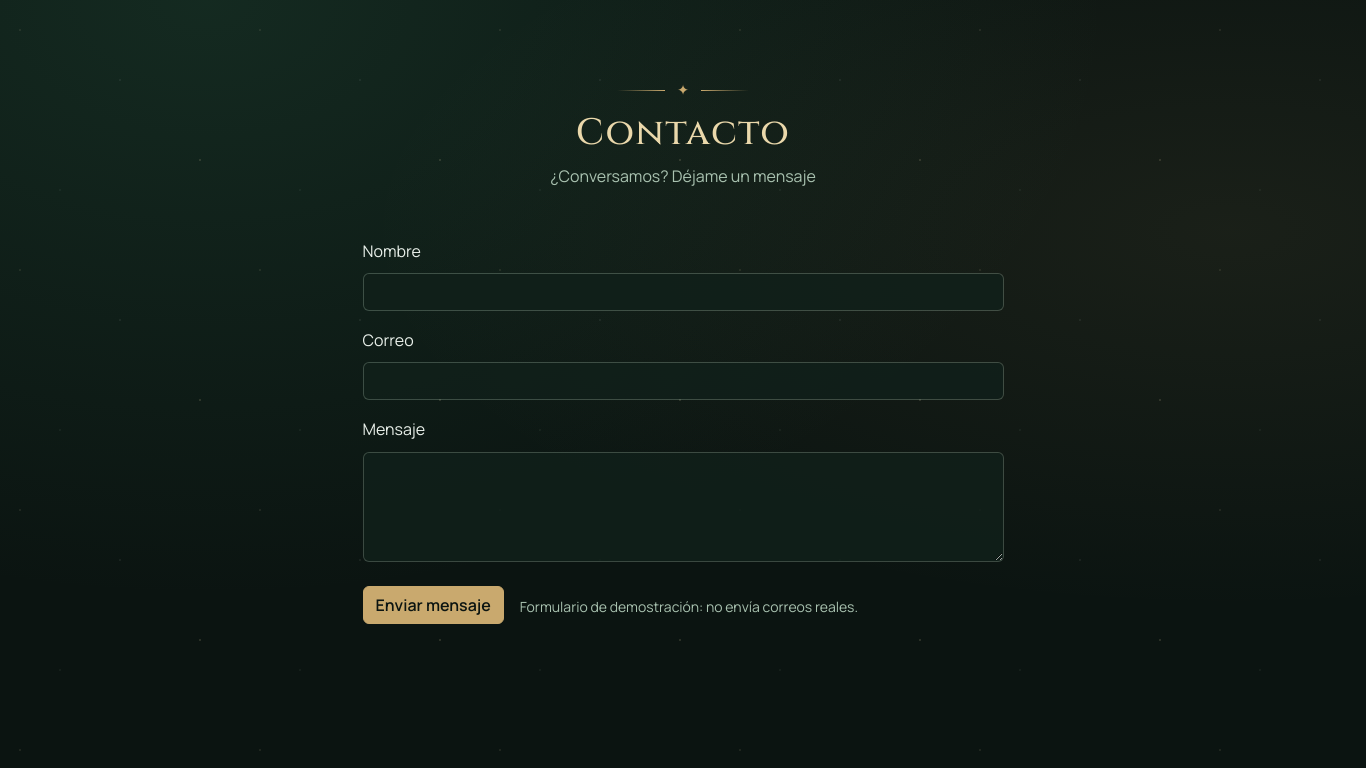
it: FormularioContacto › la confirmación se puede cerrar
The width and height of the screenshot is (1366, 768).
Type "Ana" into the field labelled "Nombre" at (683, 292), box [362,273,1004,311]
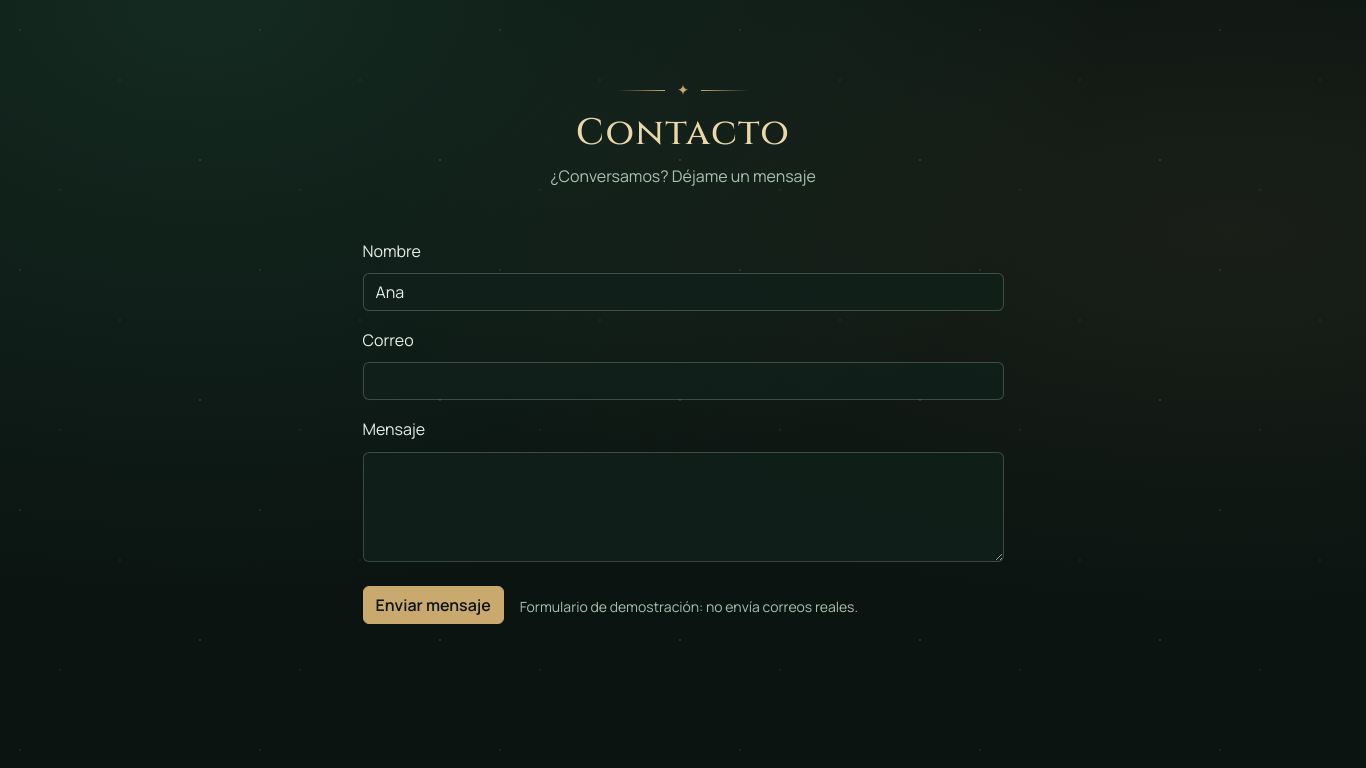
Type "ana@correo.cl" into the field labelled "Correo" at (683, 382), box [362,362,1004,400]
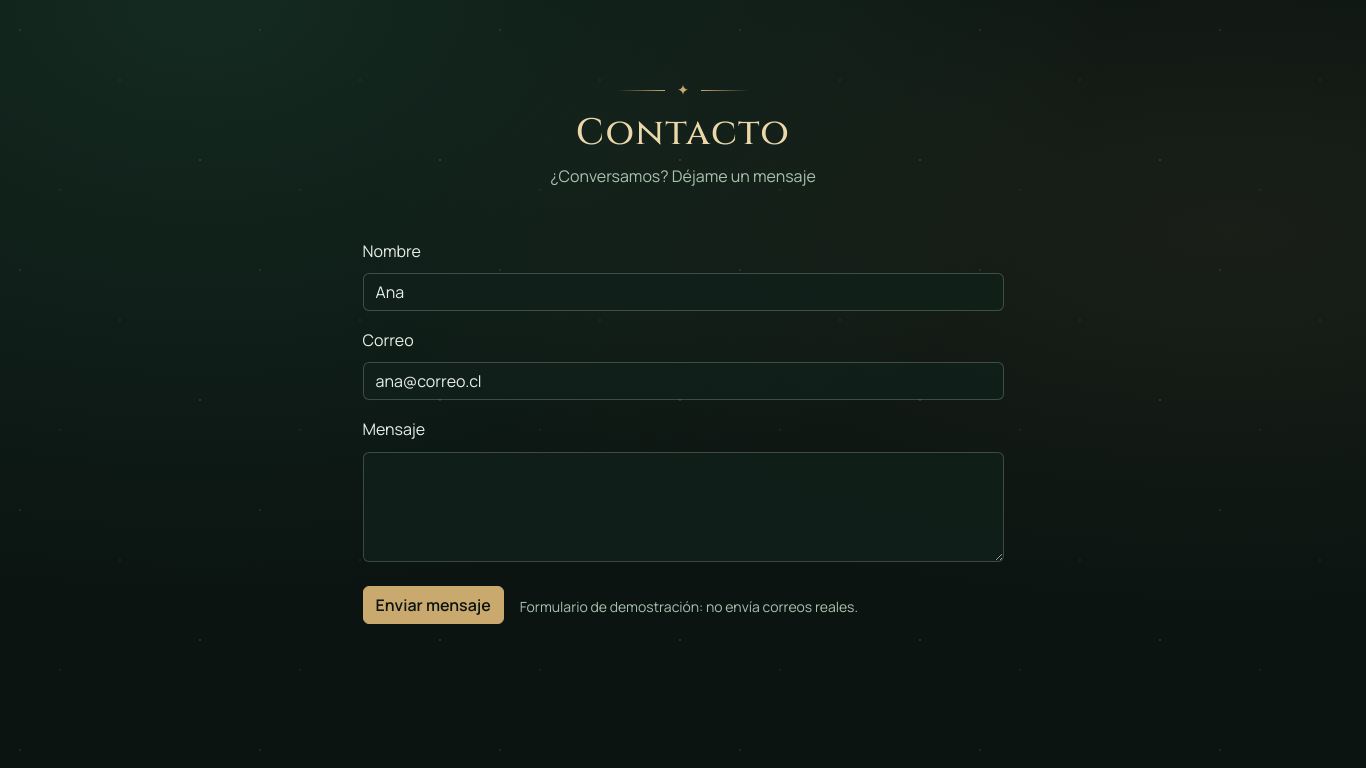
Type "Mensaje de prueba largo." into the text box labelled "Mensaje" at (683, 507), box [362,452,1004,562]
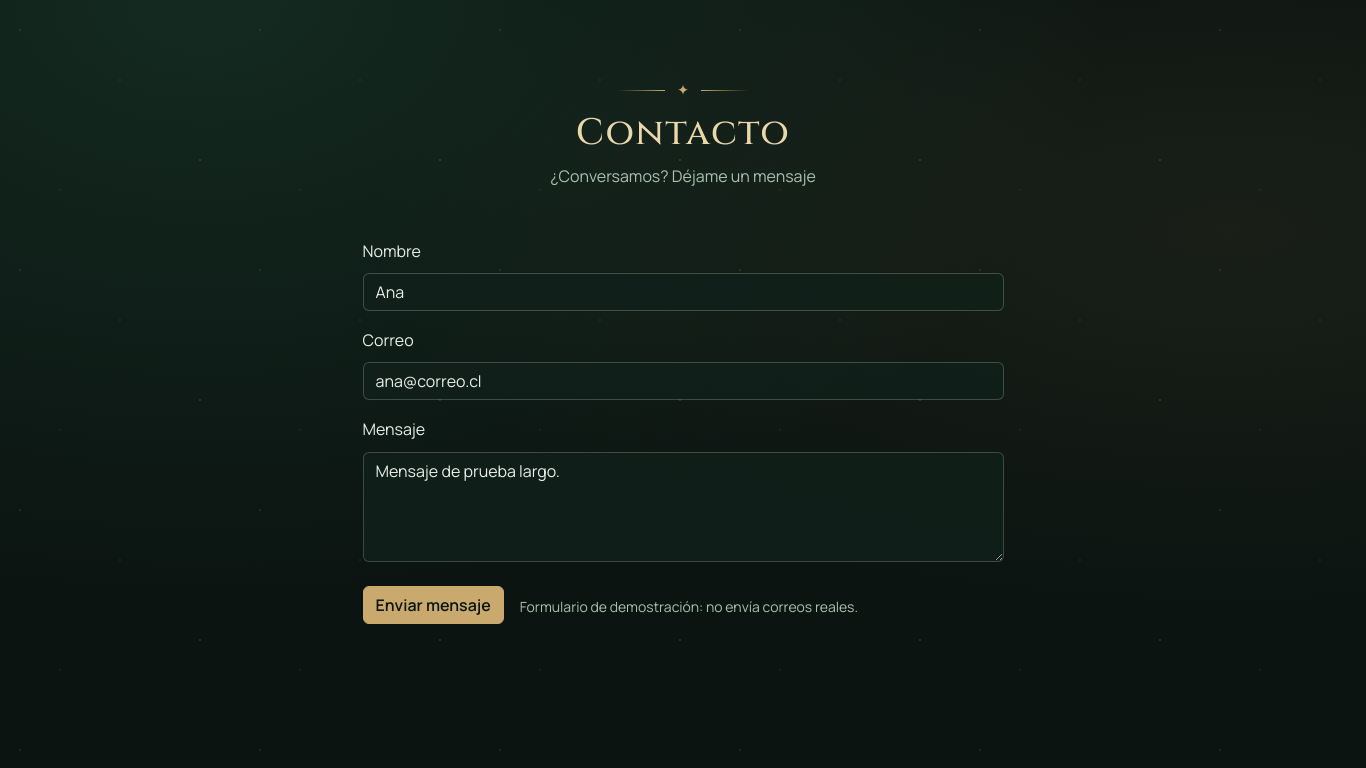
Click the button "Enviar mensaje" at (433, 605), box [362,586,504,624]
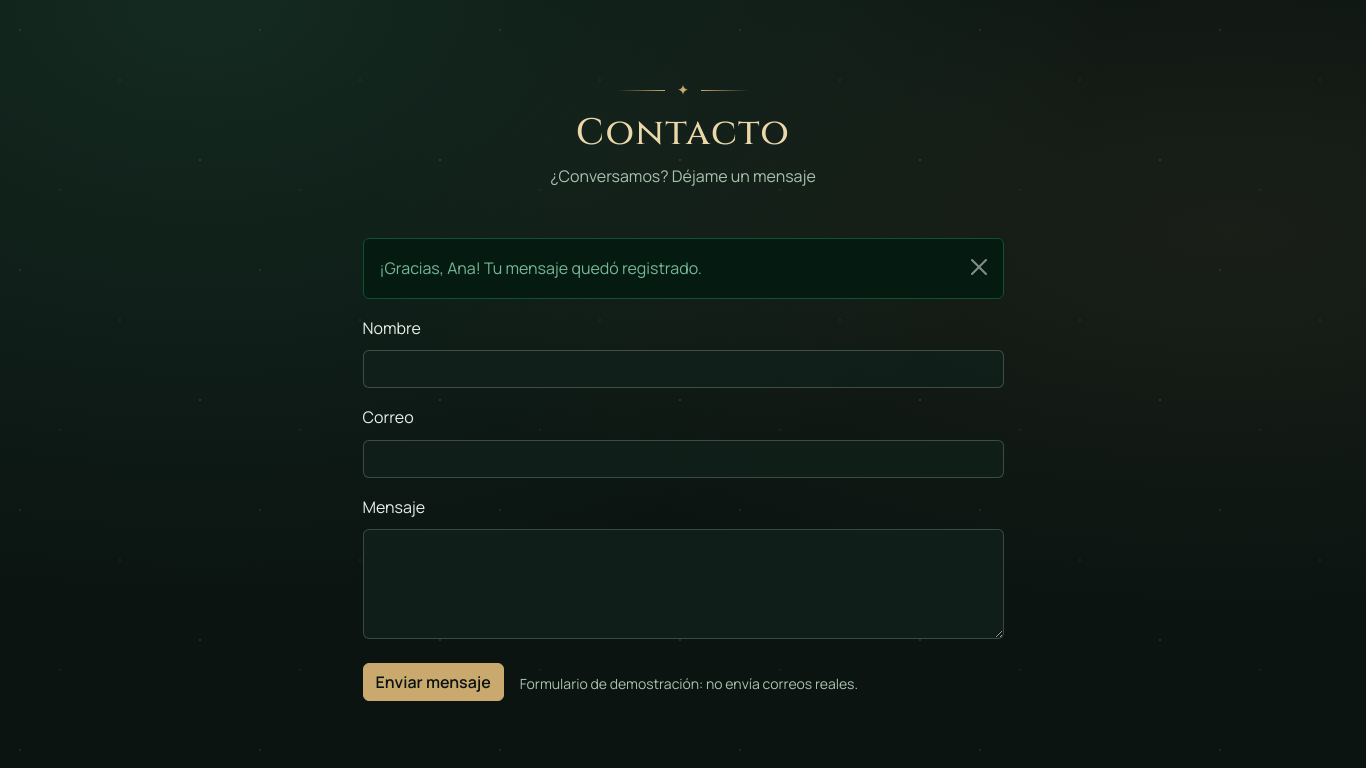
Click the button named "Close alert" at (978, 267), box [954,239,1002,295]
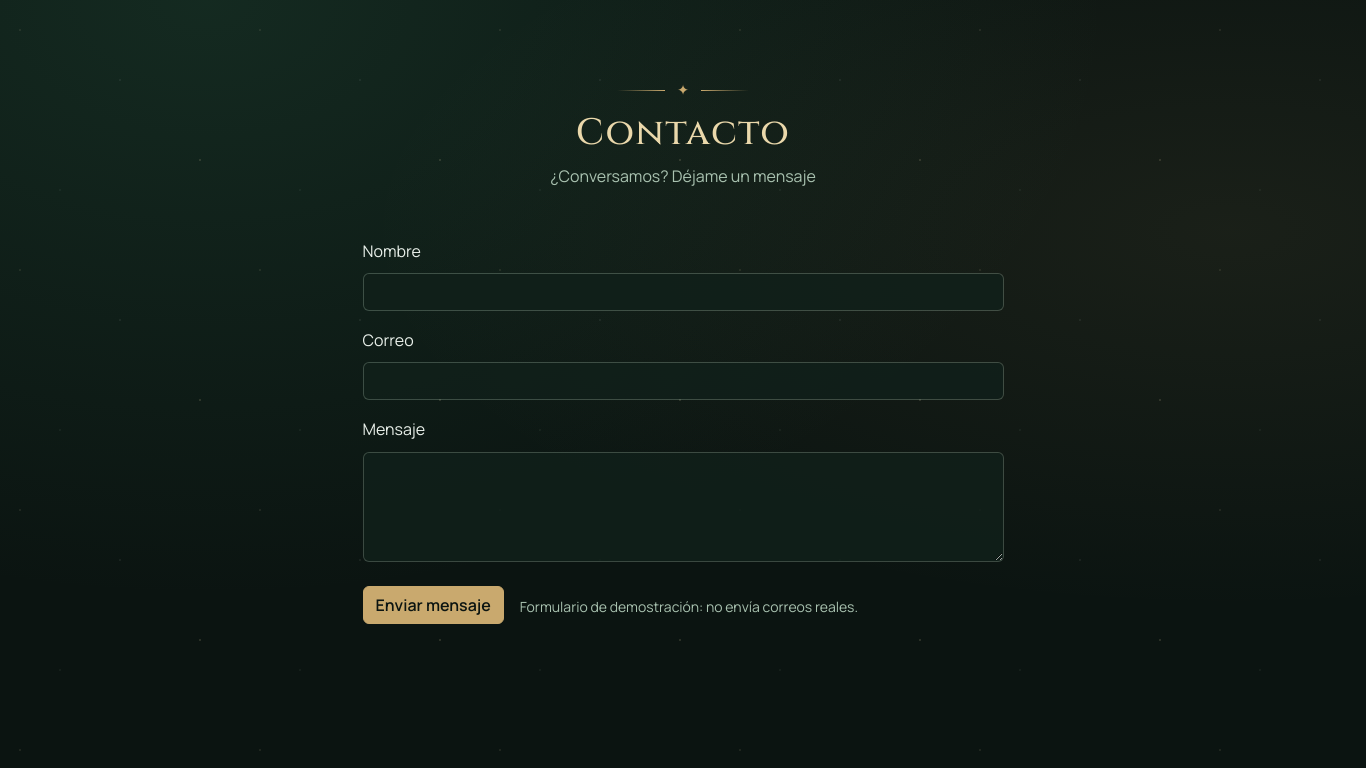
Expected: the message "¡Gracias, Ana! Tu mensaje quedó registrado." is gone
